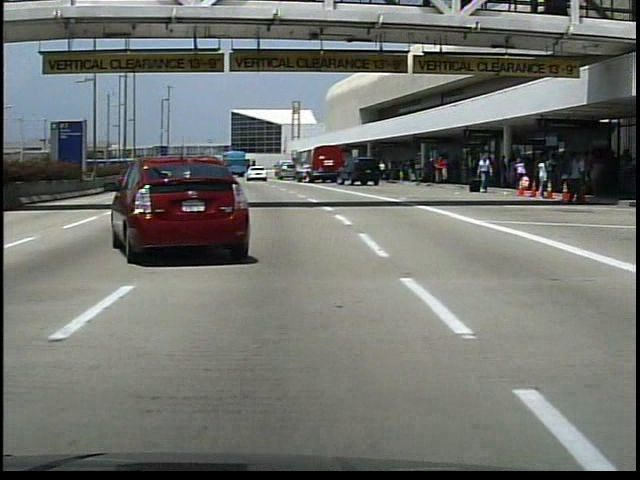person: (563, 154, 583, 206), (476, 154, 495, 195), (433, 156, 448, 184), (377, 161, 389, 182)
